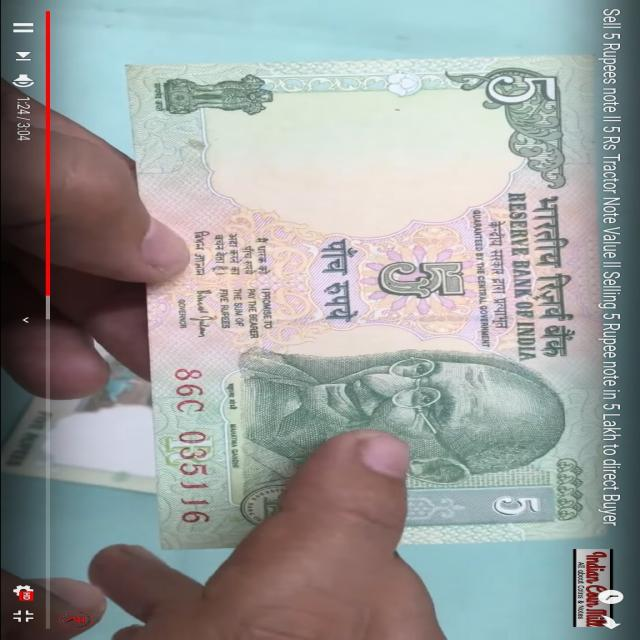5IndianRupees: (154, 52, 578, 555)
